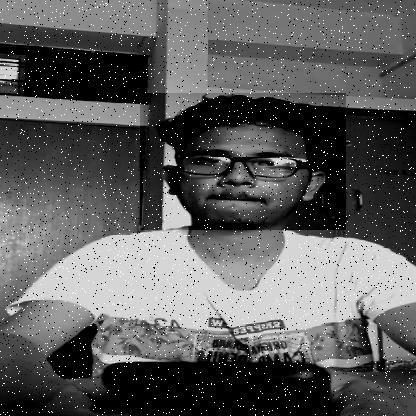Normal: (140, 93, 346, 230)
